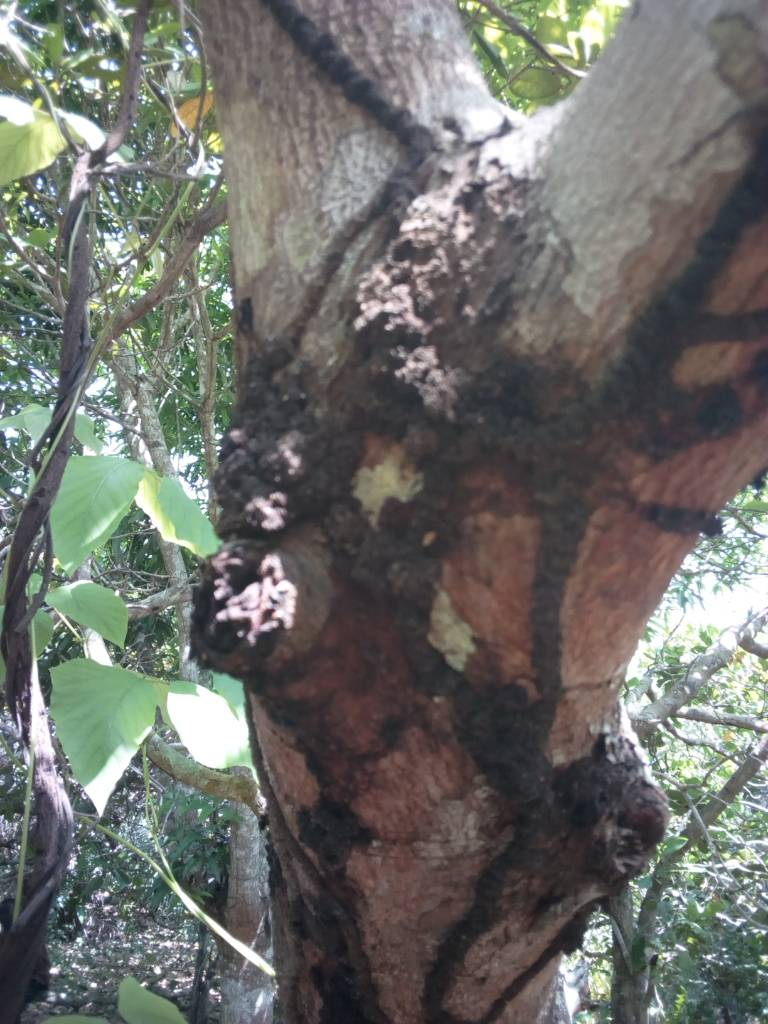Termites: (367, 356, 621, 792), (299, 790, 546, 1023), (636, 165, 759, 471), (285, 16, 432, 246)
